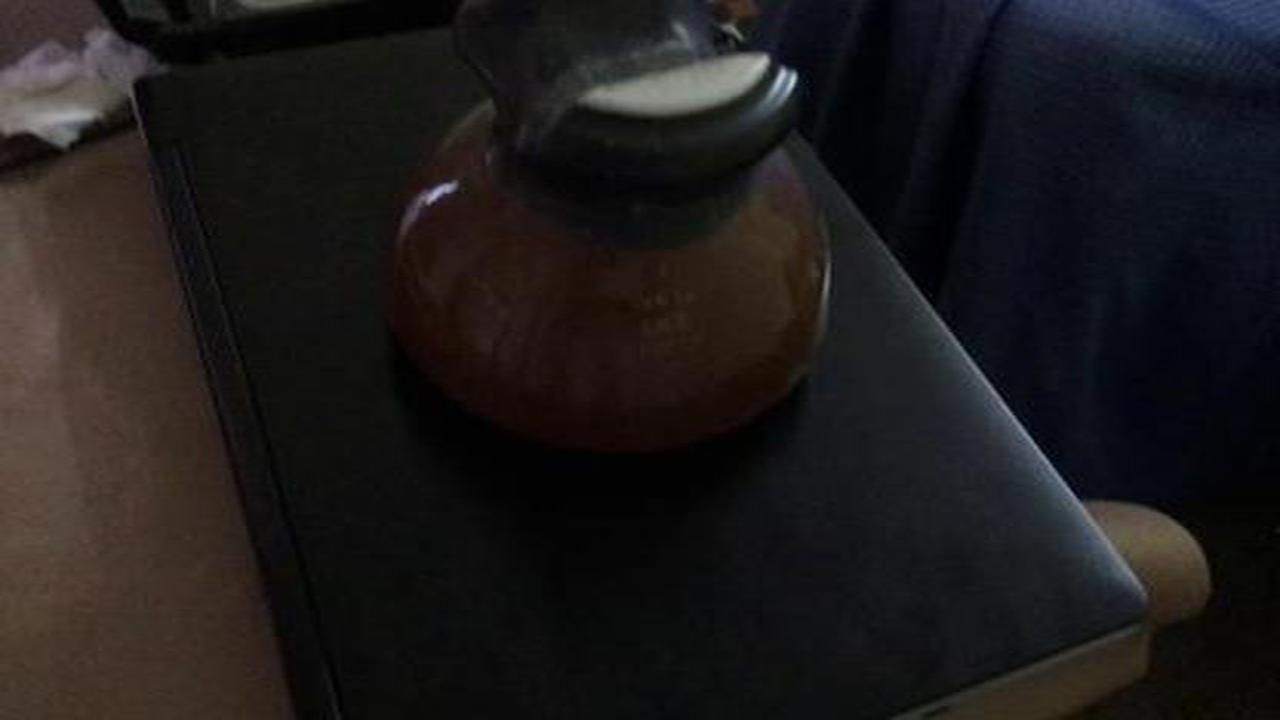insulator_pin: (366, 3, 850, 468)
